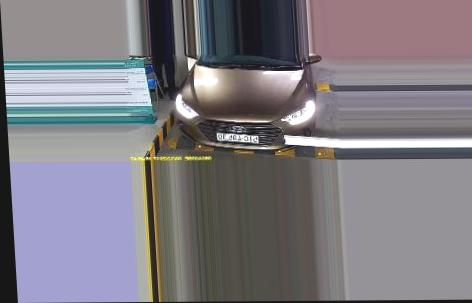License_Plate: (211, 132, 262, 145)
